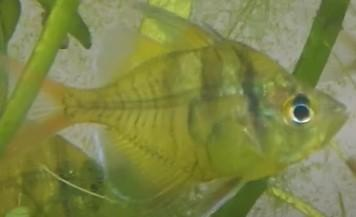Glass Perchlet: (6, 5, 349, 208)
